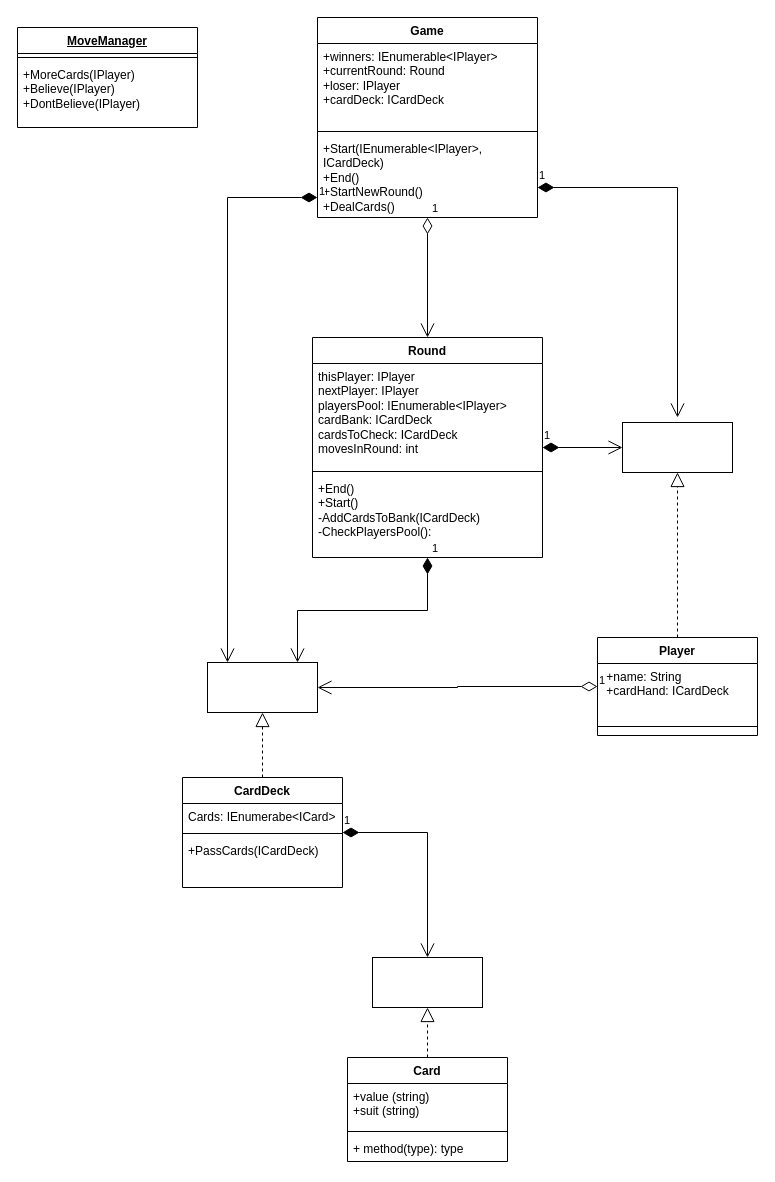
The diagram is 775 pixels wide and 1182 high, and some of its shapes have lost their labels. The shapes that lost their labels are listed below. From the top down, each one's centre as x and y in pixels, then its label:
At (677,447): "«interface» IPlayer".
At (262,687): "«interface» ICardDeck".
At (427,982): "«interface» ICard".
